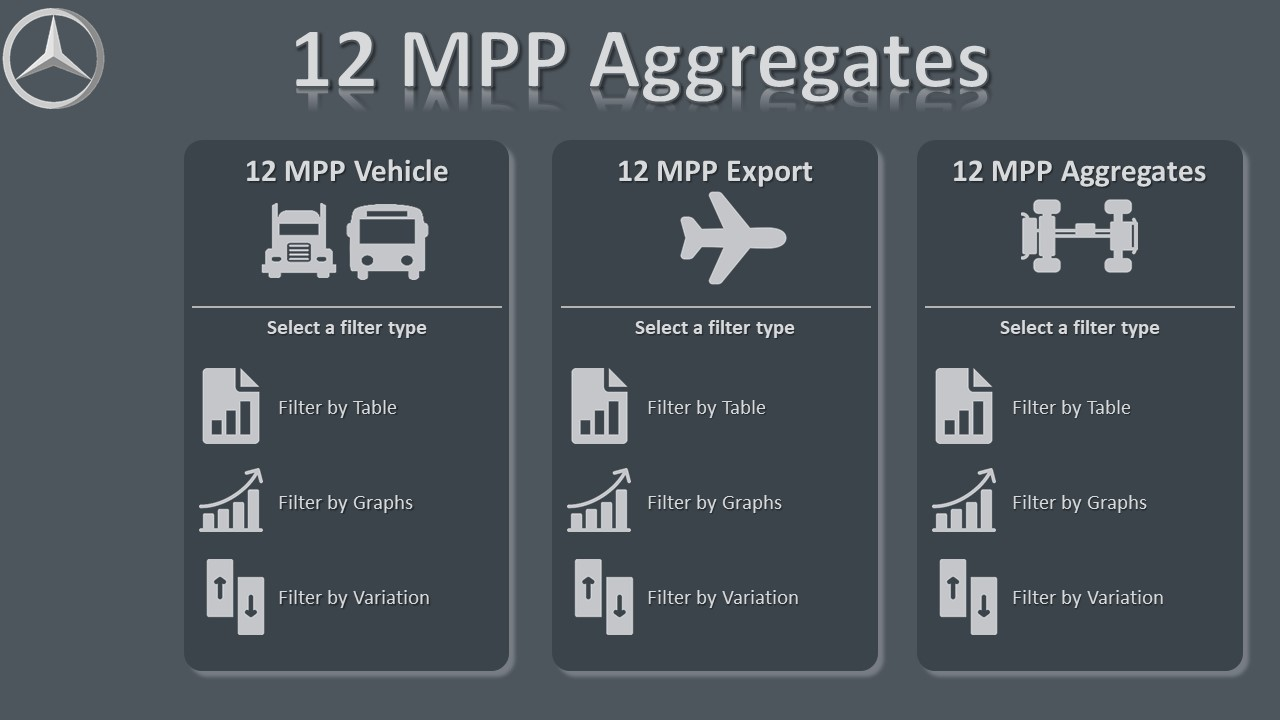

What the dashboard file says about the page in this screenshot:
{"tool":"powerbi","page":{"name":"HomePage","canvas":[1280,720],"ordinal":0},"visuals":[{"type":"actionButton","box":[198.9,360.1,229,86.7],"z":0},{"type":"actionButton","box":[198.9,461.9,229,72.6],"z":1000},{"type":"actionButton","box":[198.9,555.2,240.4,80.1],"z":2000},{"type":"actionButton","box":[570.3,360.1,229,86.7],"z":3000},{"type":"actionButton","box":[566.5,461.9,229,72.6],"z":4000},{"type":"actionButton","box":[570.3,555.2,240.4,80.1],"z":5000},{"type":"actionButton","box":[934.1,360.1,229,86.7],"z":6000},{"type":"actionButton","box":[931.3,461.9,229,72.6],"z":7000},{"type":"actionButton","box":[936,555.2,240.4,80.1],"z":8000}]}

Visuals, with their boxes in screenshot pixels (x1, y1, x2, y2), scaled from the page's 1280x720 canvas onto the 1280x720 screenshot:
actionButton: l=199, t=360, r=428, b=447
actionButton: l=199, t=462, r=428, b=534
actionButton: l=199, t=555, r=439, b=635
actionButton: l=570, t=360, r=799, b=447
actionButton: l=566, t=462, r=796, b=534
actionButton: l=570, t=555, r=811, b=635
actionButton: l=934, t=360, r=1163, b=447
actionButton: l=931, t=462, r=1160, b=534
actionButton: l=936, t=555, r=1176, b=635
